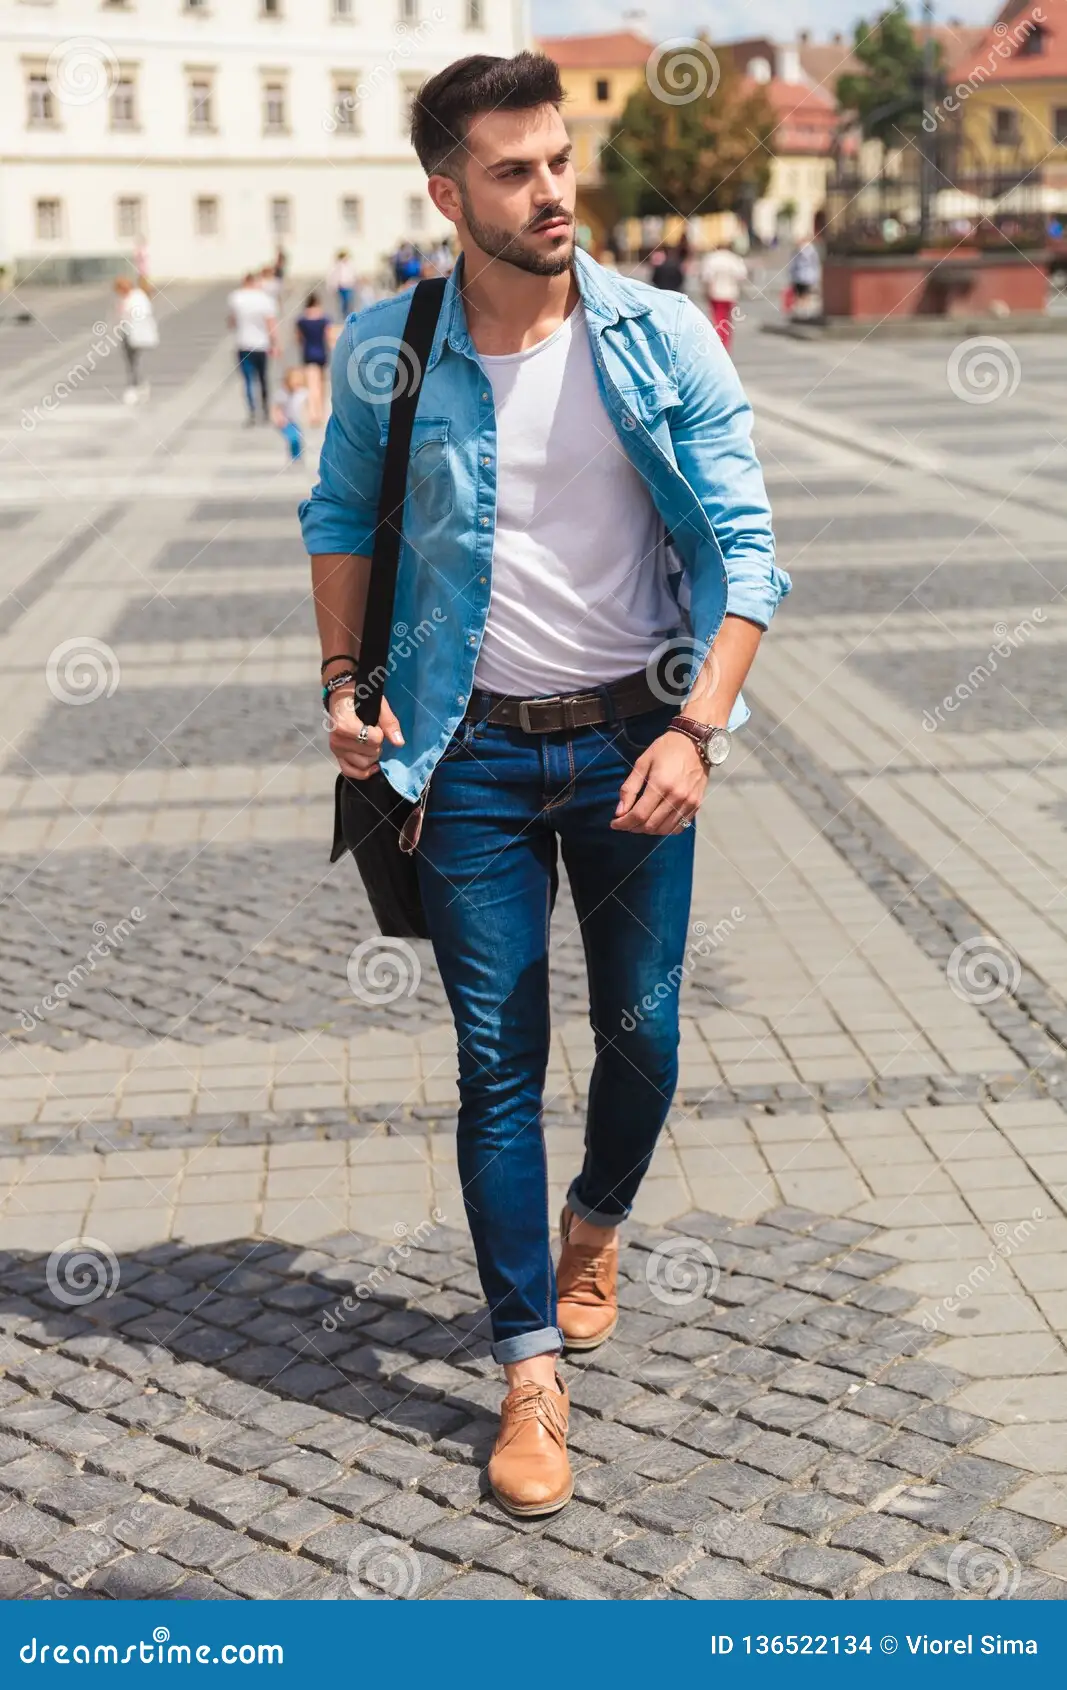person: (301, 47, 787, 1524)
